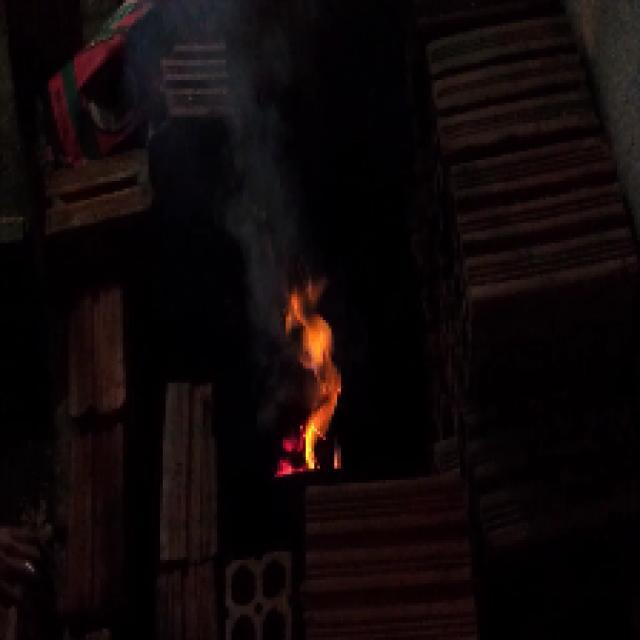Fire: (268, 288, 366, 506)
